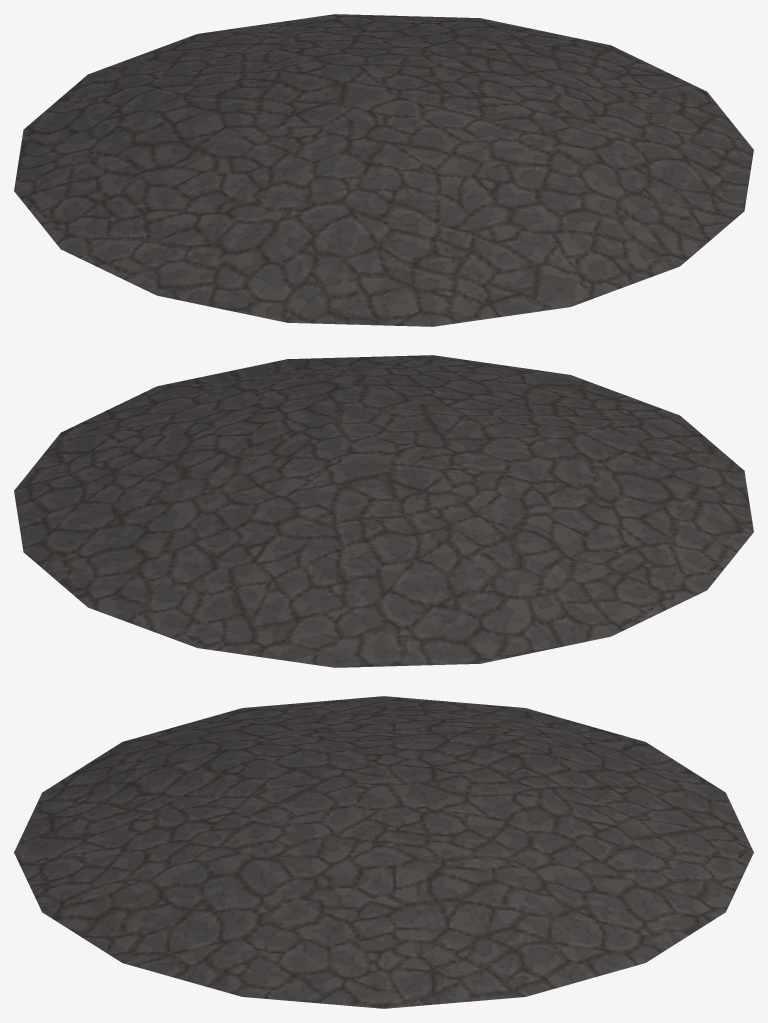
The model's file is CaveRivet1.fbx.
3 renders of one model, top to bottom at view 1: azimuth 30°, elevation 25°; view 2: azimuth 150°, elevation 25°; view 3: azimuth 270°, elevation 25°, orthographic.
Parts seen in each view (by area): view 1: CaveRivet1; view 2: CaveRivet1; view 3: CaveRivet1.
Boxes of the visible parts, x1,y1,x2,y2 form: CaveRivet1: (14, 14, 753, 326); CaveRivet1: (14, 355, 753, 667); CaveRivet1: (14, 696, 753, 1008).
Bounding box in the file's own units: 659 × 61.5 × 659.
